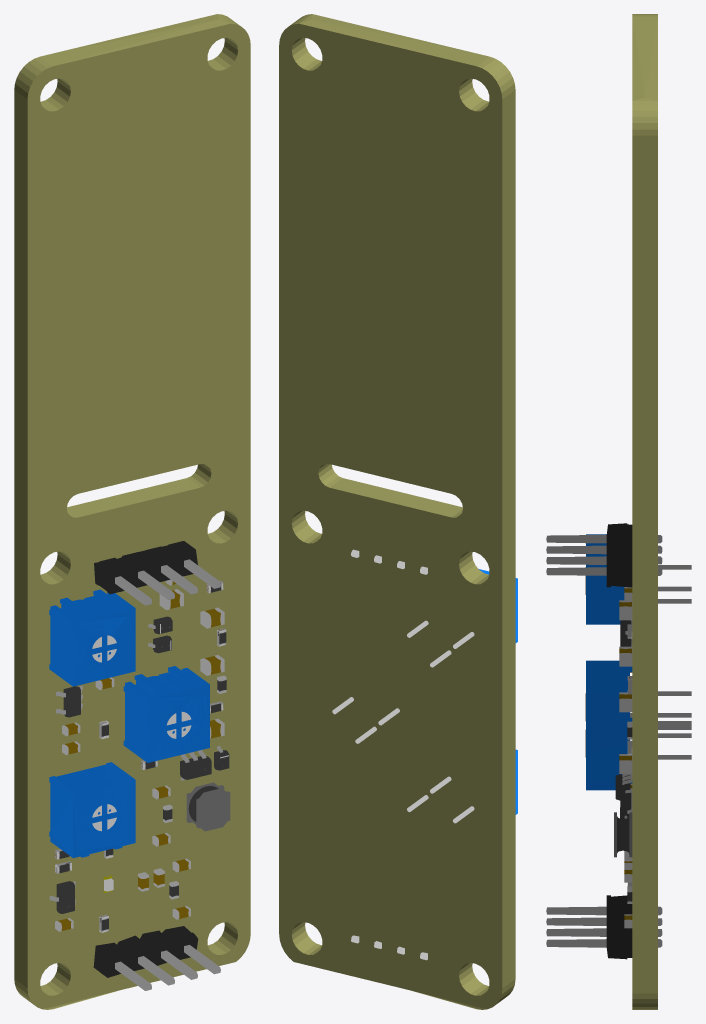
Rendered from OBJ_PCB.obj.
3 views of the same model, side by side, from view 1: azimuth 30°, elevation 25°; view 2: azimuth 150°, elevation 25°; view 3: azimuth 270°, elevation 25° (orthographic). The views are drawn at different scales.
Bounding box in the file's own units: 97.23 × 392 × 56.85.
